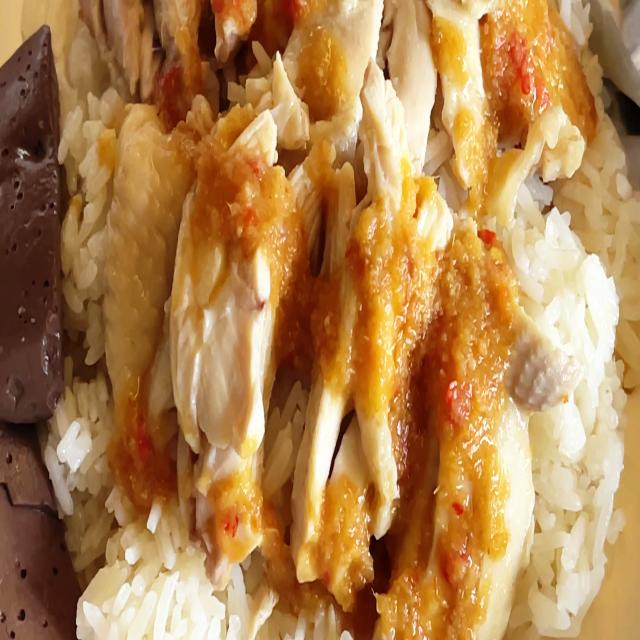boiled_chicken: (102, 0, 559, 585)
boiled_chicken_blood_jelly: (0, 17, 70, 420), (0, 410, 77, 640)
chicken_rice: (0, 0, 640, 640)
